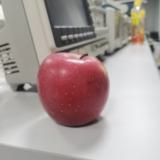apple: (37, 52, 110, 128)
